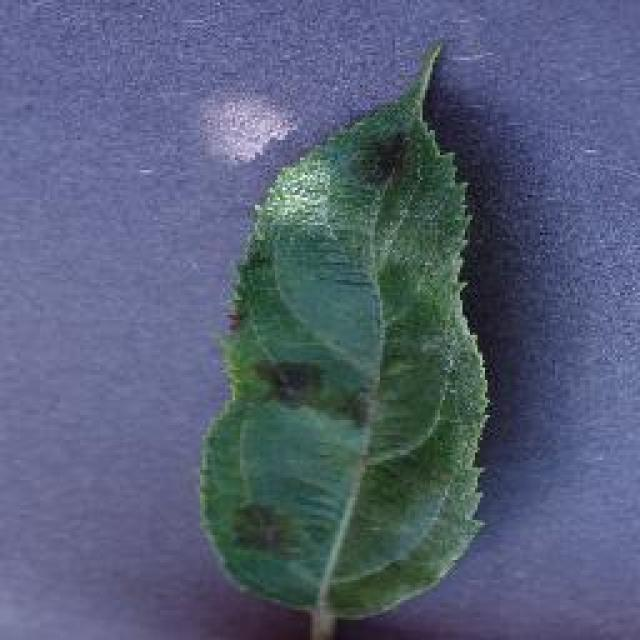apple scab disease: (195, 38, 493, 638)
